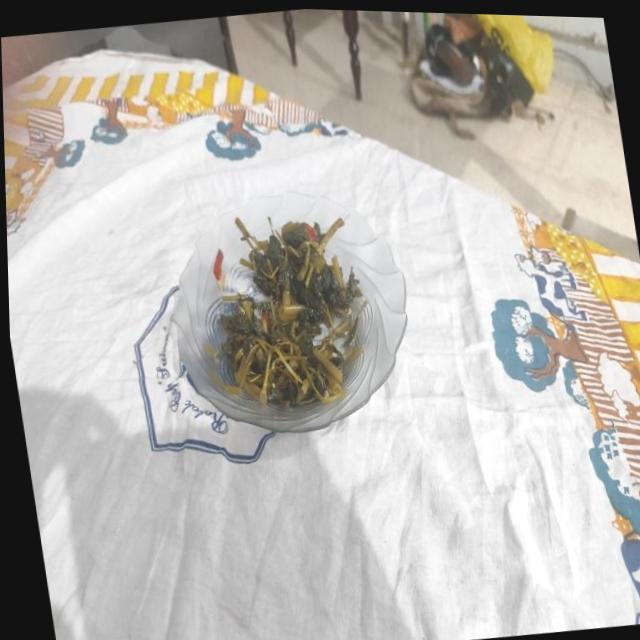tumis_kangkung: (220, 217, 362, 406)
